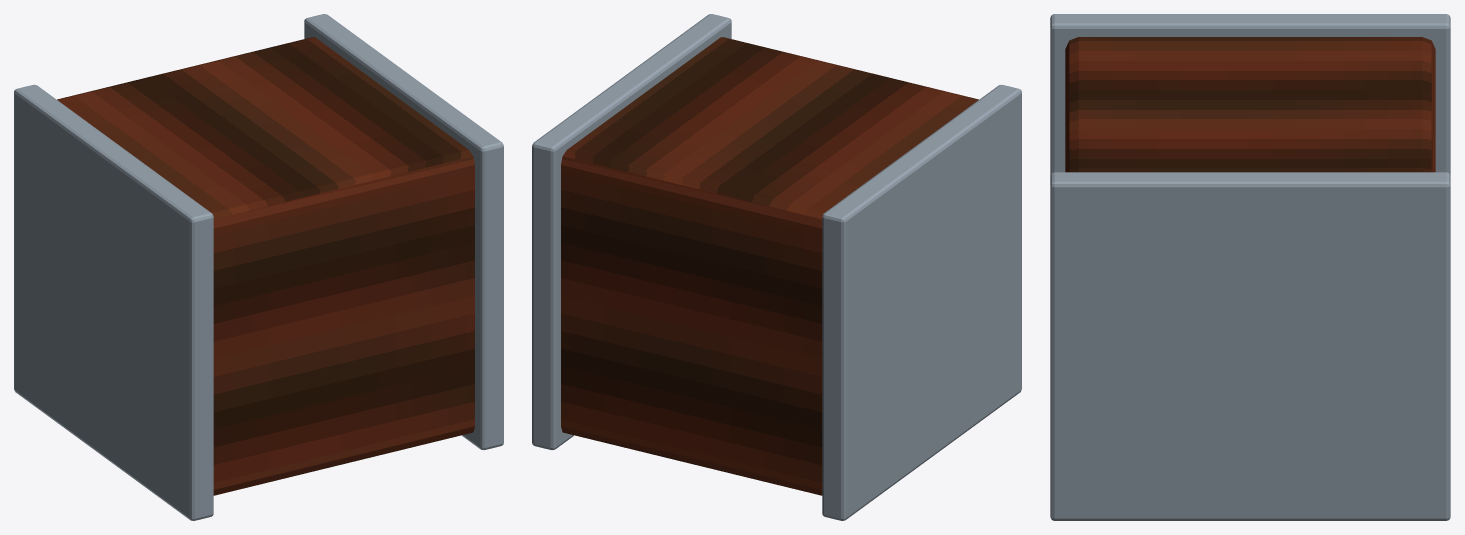
File: Crate.glb
3 views of the same model, side by side, from view 1: azimuth 30°, elevation 25°; view 2: azimuth 150°, elevation 25°; view 3: azimuth 270°, elevation 25° (orthographic). The views are drawn at different scales.
Parts seen in each view (by area): view 1: Wooden Crate, Crate Band, Crate Band.001; view 2: Wooden Crate, Crate Band, Crate Band.001; view 3: Crate Band.001, Wooden Crate, Crate Band.
Boxes of the visible parts, x1=… form: Wooden Crate: x1=57, y1=37, x2=474, y2=495; Crate Band: x1=14, y1=84, x2=213, y2=520; Crate Band.001: x1=304, y1=14, x2=503, y2=450; Wooden Crate: x1=561, y1=37, x2=978, y2=495; Crate Band: x1=822, y1=84, x2=1021, y2=520; Crate Band.001: x1=532, y1=14, x2=731, y2=450; Crate Band.001: x1=1050, y1=172, x2=1450, y2=520; Wooden Crate: x1=1065, y1=37, x2=1435, y2=172; Crate Band: x1=1050, y1=14, x2=1450, y2=175.
Bounding box in the file's own units: 0.93 × 0.86 × 0.92.
2 materials, 1 textured.
